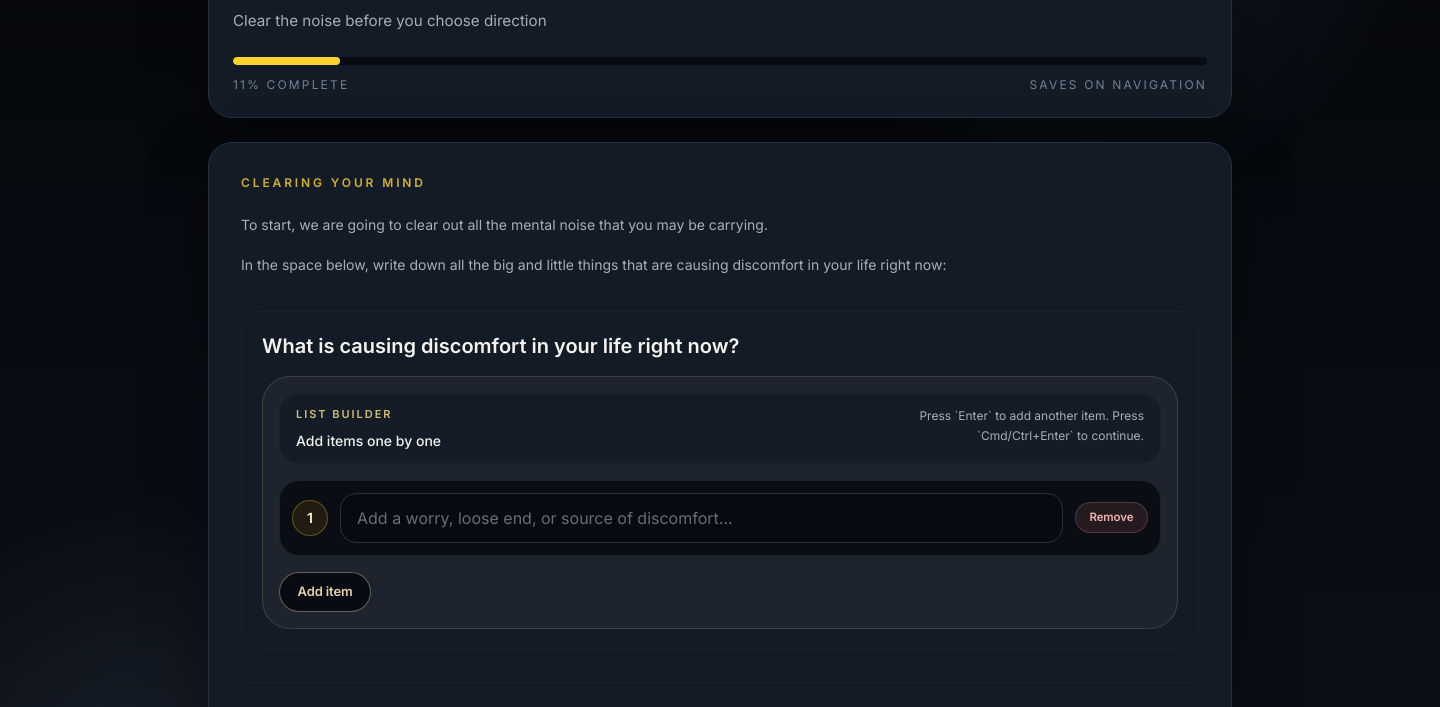
Test: CompassSessionRunner › gates progress until required multi-input answers exist and persists back/continue navigation
Type "Clear the noise first" into the field named "What is causing discomfort in your life right now? 1" at (701, 518), box [340, 493, 1063, 543]
(page scrolled)
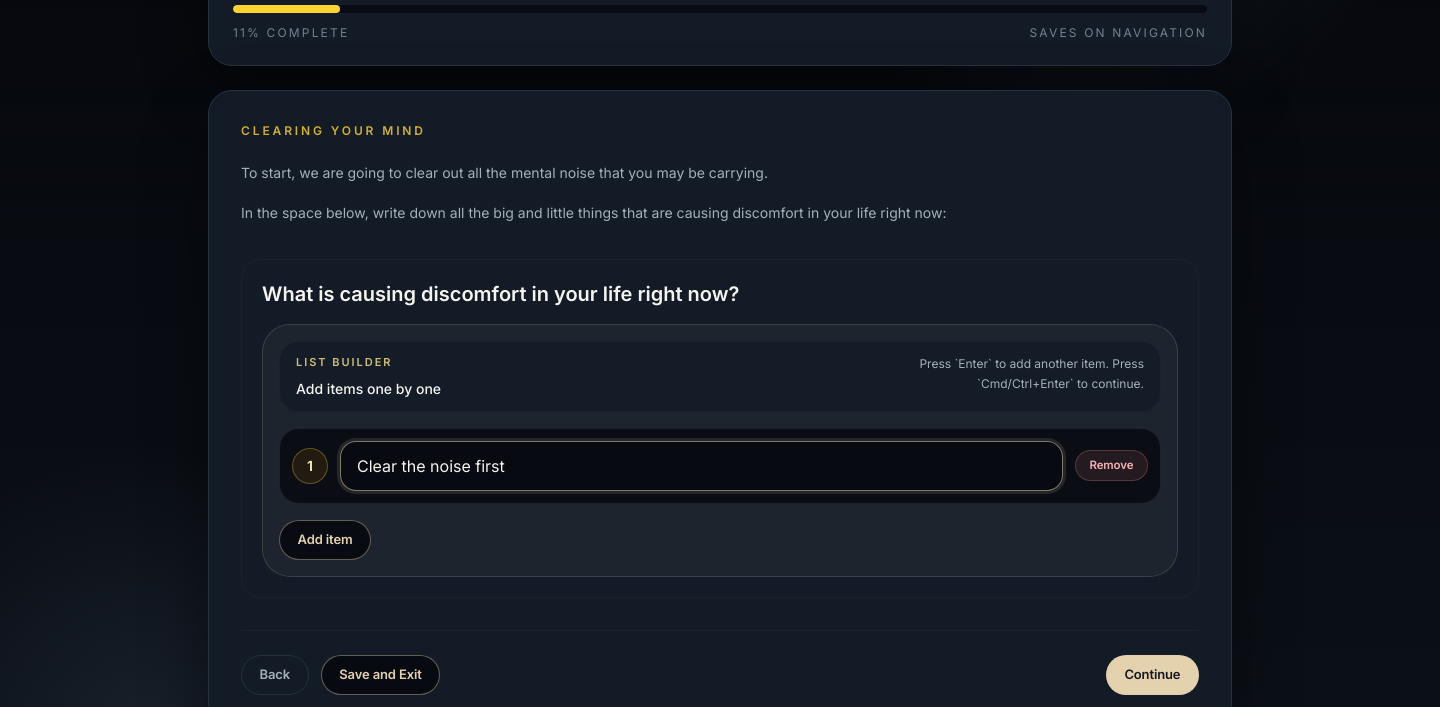
Now the button "Continue" is enabled
Click the button "Continue" at (1152, 675), box [1106, 655, 1199, 695]
(page scrolled)
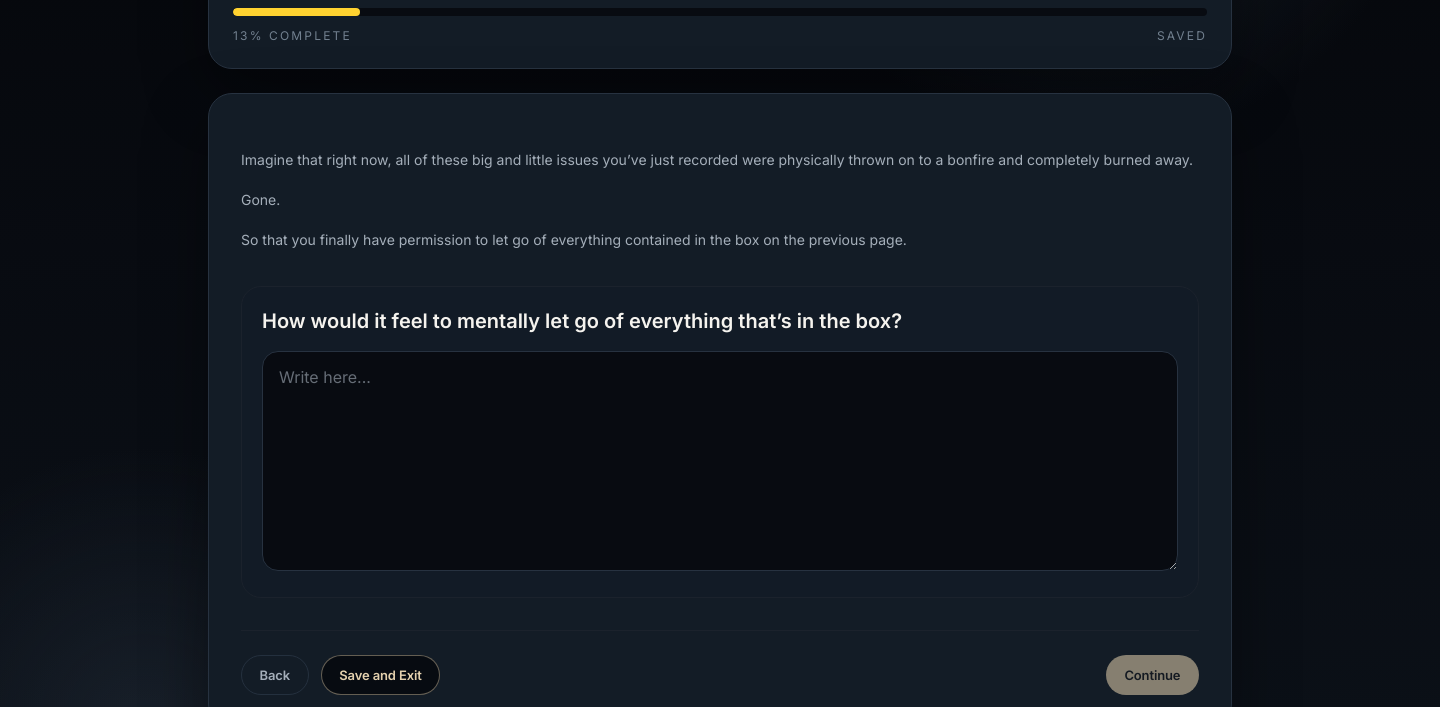
Now the heading "How would it feel to mentally let go of everything that’s in the box?" is shown, box [262, 309, 902, 333]
Click the button "Back" at (275, 675), box [241, 655, 309, 695]
(page scrolled)
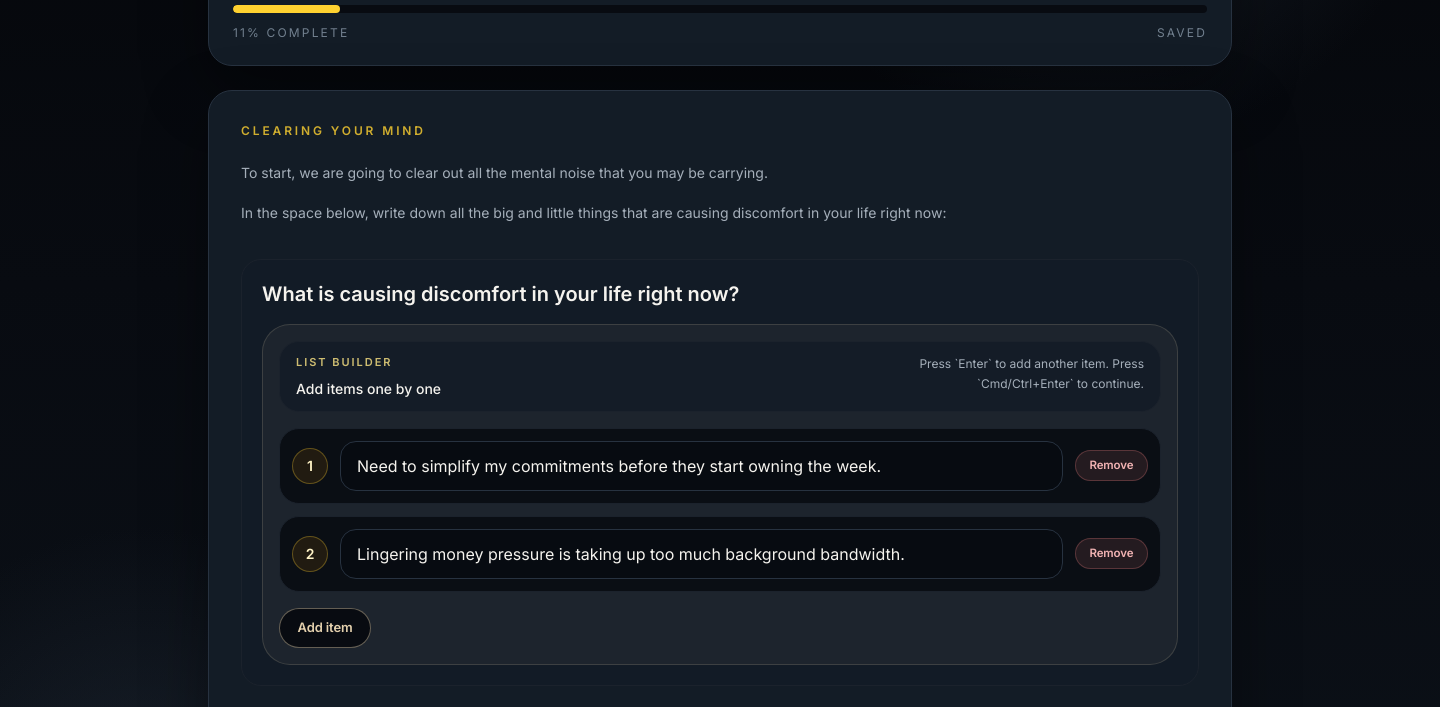
Now the heading "What is causing discomfort in your life right now?" is shown, box [262, 282, 739, 306]
